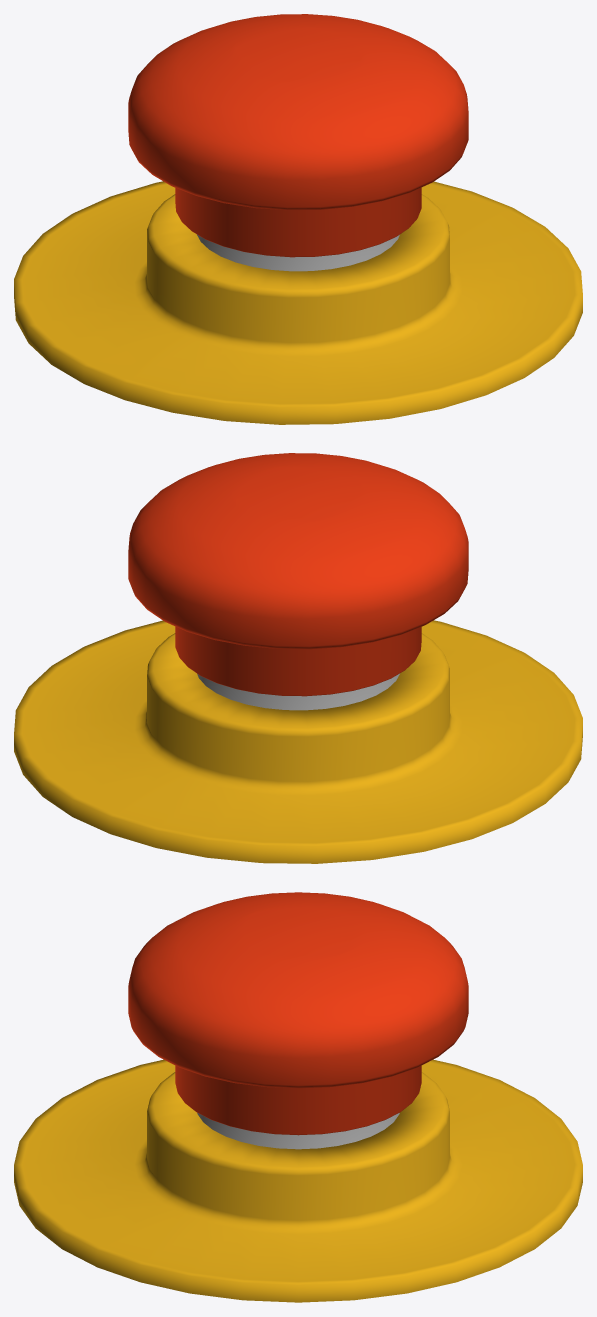
Rendered from button.glb.
The picture shows the model from 3 angles, top to bottom: view 1: azimuth 30°, elevation 25°; view 2: azimuth 150°, elevation 25°; view 3: azimuth 270°, elevation 25°; orthographic projection.
Visible parts, largest first — view 1: ButtonBase, ButtonTop; view 2: ButtonBase, ButtonTop; view 3: ButtonBase, ButtonTop.
Part boxes in pixels (x1=…): ButtonBase: x1=14, y1=181, x2=582, y2=424; ButtonTop: x1=128, y1=14, x2=468, y2=257; ButtonBase: x1=14, y1=620, x2=582, y2=863; ButtonTop: x1=128, y1=453, x2=468, y2=696; ButtonBase: x1=14, y1=1059, x2=582, y2=1302; ButtonTop: x1=128, y1=892, x2=468, y2=1135.
Bounding box in the file's own units: 0.2282 × 0.1119 × 0.2282.
